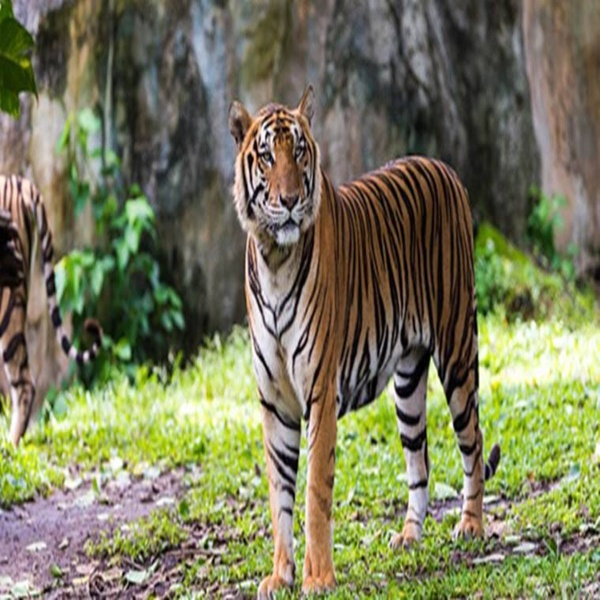Tiger: (226, 88, 506, 598)
